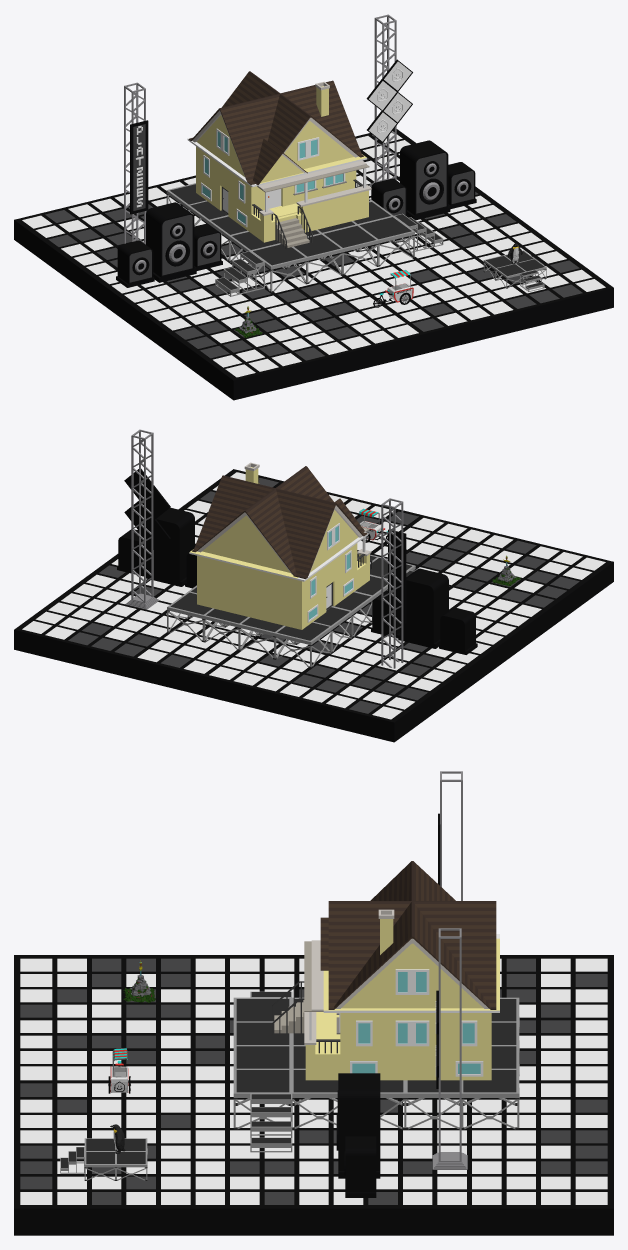
3 views of the same model, one above another, from view 1: azimuth 30°, elevation 25°; view 2: azimuth 150°, elevation 25°; view 3: azimuth 270°, elevation 25° (orthographic). The views are drawn at different scales.
Visible parts, largest first — view 1: Cube.008, Cube.1555, VEHICLES_SNOWBAL_BIKE; view 2: Cube.008, Cube.1555, VEHICLES_SNOWBAL_BIKE; view 3: Cube.008, Cube.1555, VEHICLES_SNOWBAL_BIKE.
Part boxes in pixels (<box>): Cube.008: <box>14,14,613,400</box>; Cube.1555: <box>187,71,371,249</box>; VEHICLES_SNOWBAL_BIKE: <box>373,270,413,307</box>; Cube.008: <box>14,429,613,742</box>; Cube.1555: <box>189,462,372,629</box>; VEHICLES_SNOWBAL_BIKE: <box>359,508,387,543</box>; Cube.008: <box>14,771,613,1235</box>; Cube.1555: <box>272,861,499,1080</box>; VEHICLES_SNOWBAL_BIKE: <box>108,1048,130,1093</box>.
Bounding box in the file's own units: 4000 × 2073 × 4000.
Materials: 43 (1 with a texture image).
